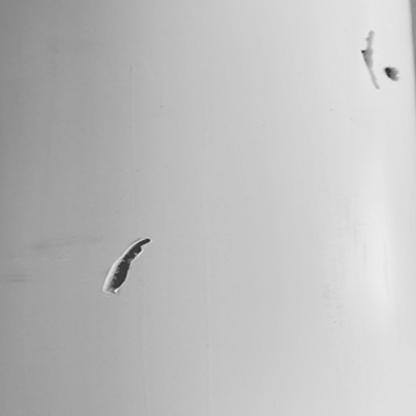kongdong: (100, 232, 158, 293), (356, 28, 386, 94), (379, 60, 408, 86)
